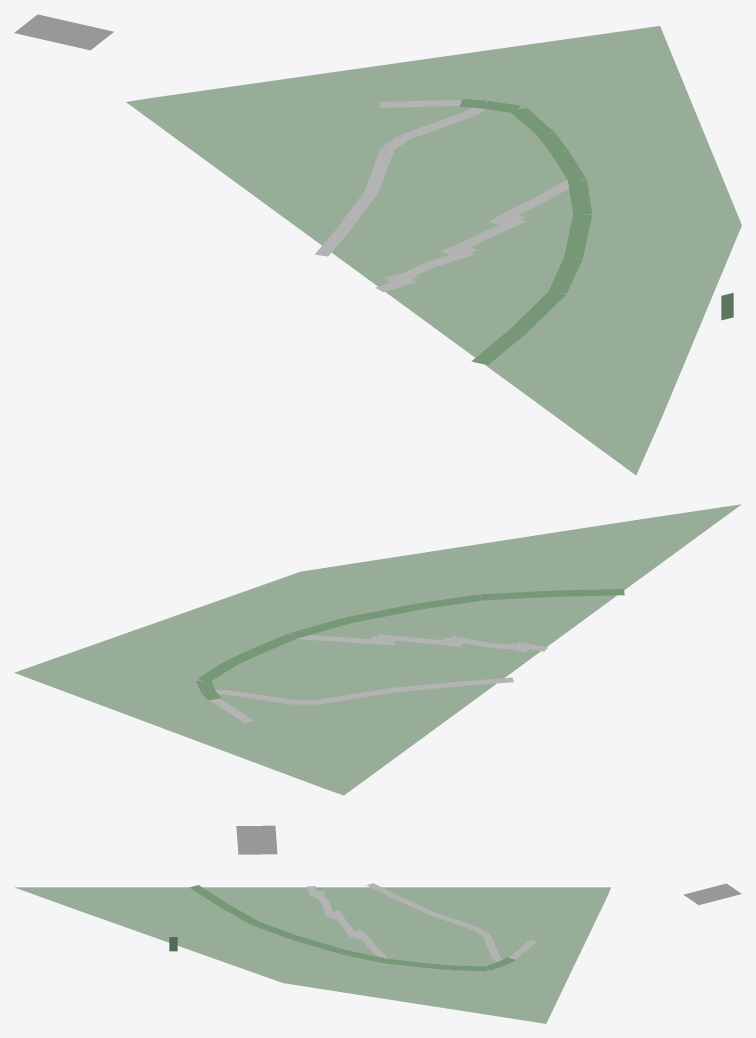
3 renders of one model, top to bottom at view 1: azimuth 30°, elevation 25°; view 2: azimuth 150°, elevation 25°; view 3: azimuth 270°, elevation 25°, orthographic. The views are drawn at different scales.
Bounding box in the file's own units: 119 × 6.03 × 261.
